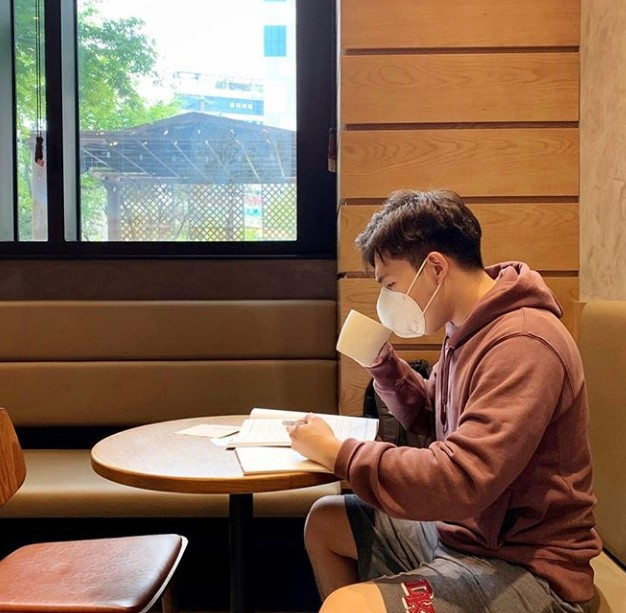face_with_mask: (363, 197, 455, 342)
